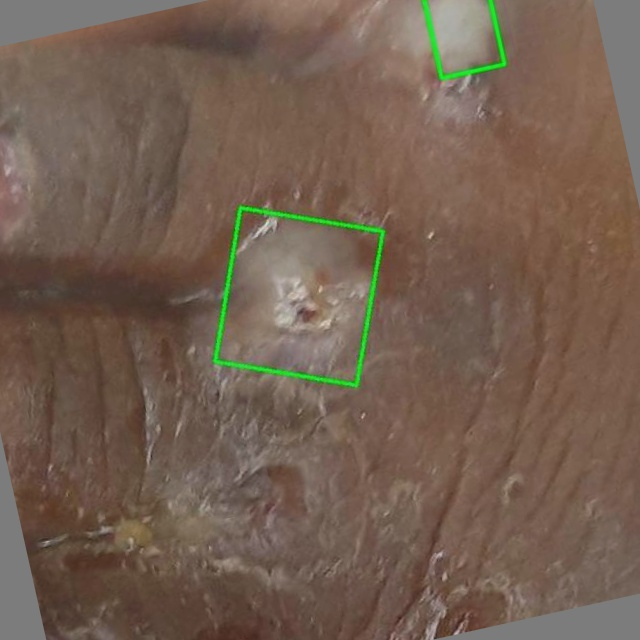Eczema: (215, 208, 383, 386), (424, 0, 504, 78)
